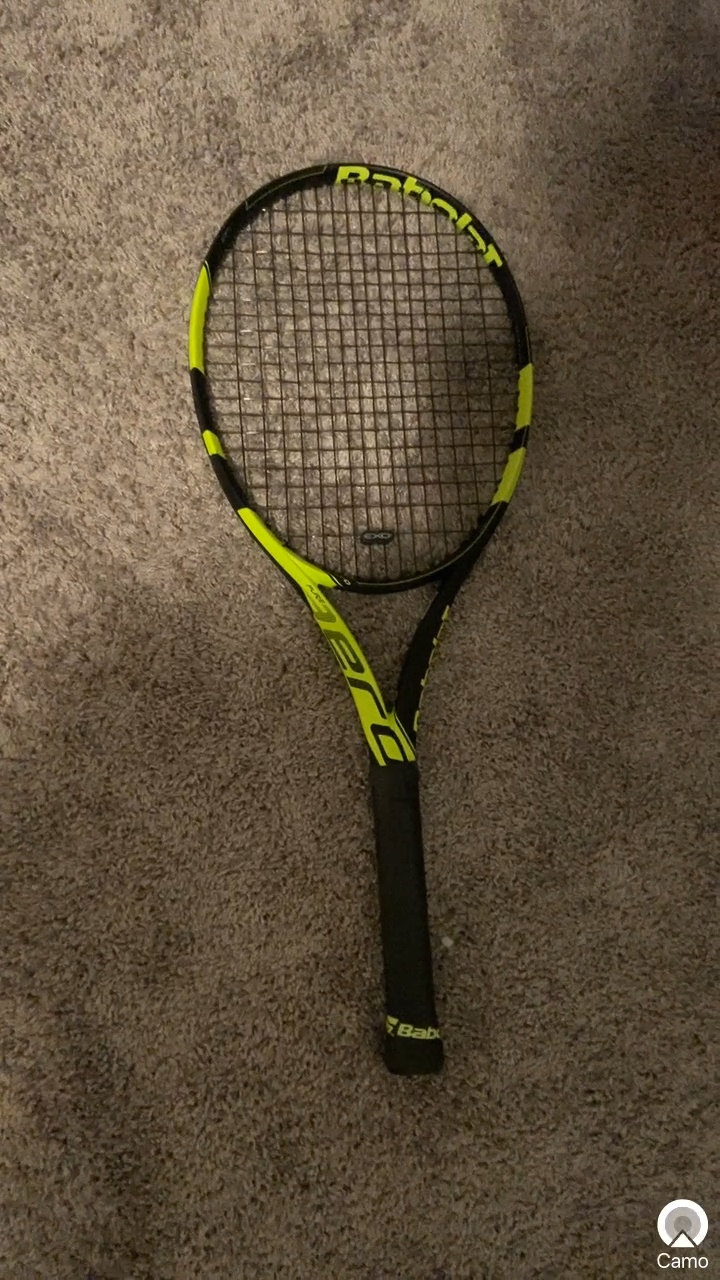Tennis_Racquet: (181, 155, 553, 1084)
